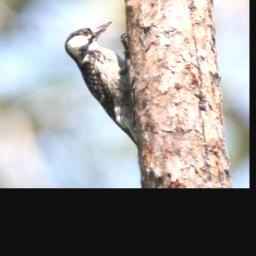Woodpecker: (64, 20, 138, 152)
